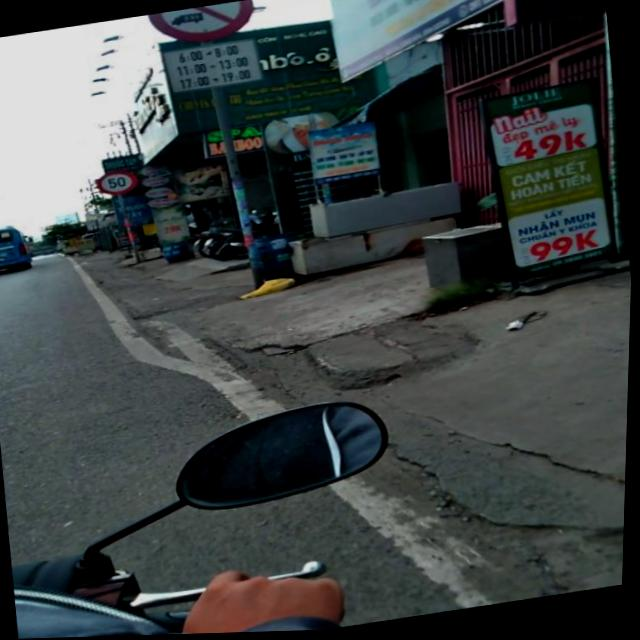Toc do toi da cho phep: (95, 167, 141, 198)
